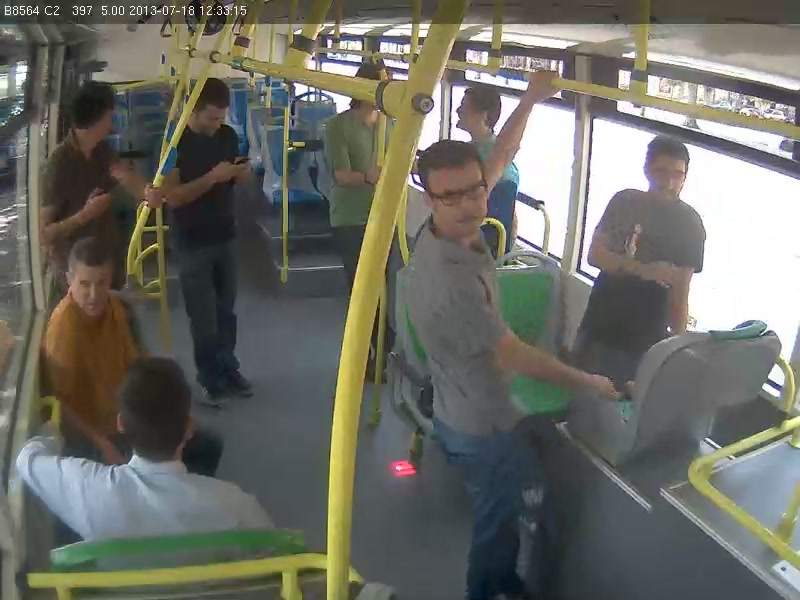Head: (109, 351, 205, 466), (416, 137, 497, 244), (635, 126, 696, 218), (65, 236, 122, 318), (453, 77, 512, 145), (71, 77, 118, 151), (183, 73, 234, 141)
